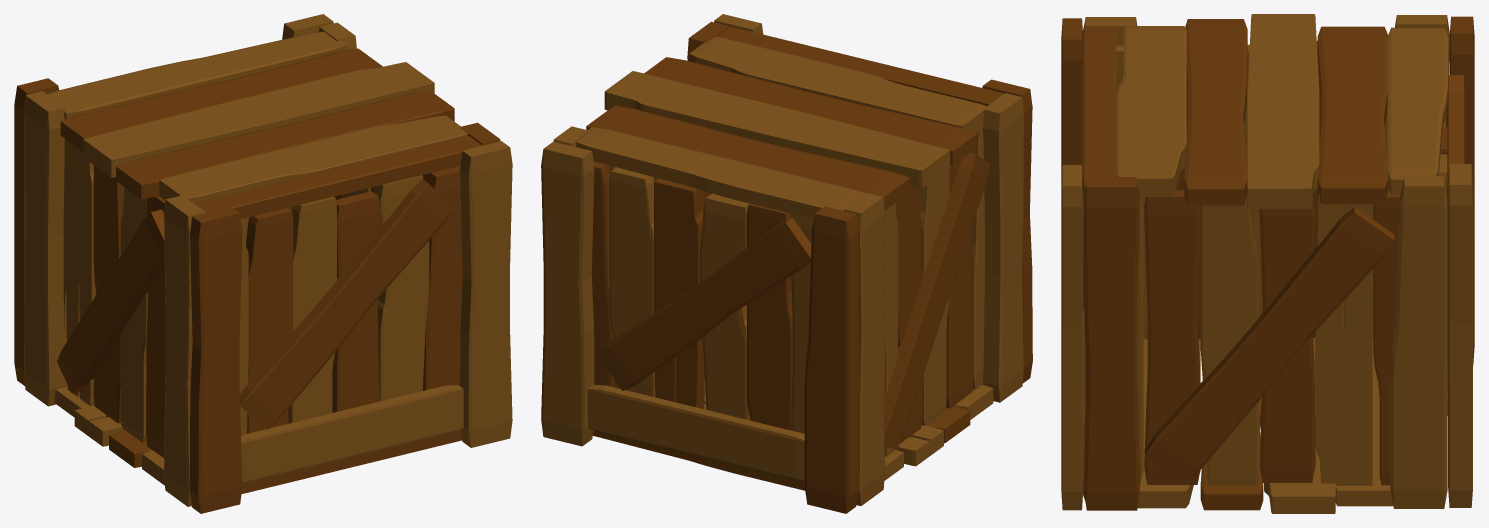
File: Crate_Prop.fbx
3 views of the same model, side by side, from view 1: azimuth 30°, elevation 25°; view 2: azimuth 150°, elevation 25°; view 3: azimuth 270°, elevation 25° (orthographic). The views are drawn at different scales.
Visible parts, largest first — view 1: CrateSide.004, CrateTop, CrateSide.002, CrateSide.003, CrateBase, CrateSide.001; view 2: CrateSide.001, CrateSide.002, CrateTop, CrateBase, CrateSide.004, CrateSide.003; view 3: CrateSide.003, CrateTop, CrateSide.001, CrateBase, CrateSide.002, CrateSide.004.
Part boxes in pixels (left/top/right/bottom): CrateSide.004: left=189, top=166, right=463, bottom=513; CrateTop: left=47, top=31, right=489, bottom=218; CrateSide.002: left=14, top=78, right=205, bottom=506; CrateSide.003: left=334, top=122, right=512, bottom=447; CrateBase: left=54, top=385, right=461, bottom=494; CrateSide.001: left=242, top=14, right=356, bottom=245; CrateSide.001: left=541, top=126, right=813, bottom=481; CrateSide.002: left=804, top=93, right=1023, bottom=513; CrateTop: left=576, top=26, right=1003, bottom=218; CrateBase: left=593, top=380, right=993, bottom=490; CrateSide.004: left=982, top=79, right=1032, bottom=382; CrateSide.003: left=608, top=14, right=763, bottom=212; CrateSide.003: left=1061, top=165, right=1399, bottom=510; CrateTop: left=1082, top=14, right=1447, bottom=208; CrateSide.001: left=1390, top=75, right=1472, bottom=508; CrateBase: left=1083, top=338, right=1447, bottom=513; CrateSide.002: left=1084, top=15, right=1474, bottom=365; CrateSide.004: left=1061, top=18, right=1087, bottom=466.
Bounding box in the file's own units: 1.42 × 1.23 × 1.41.
